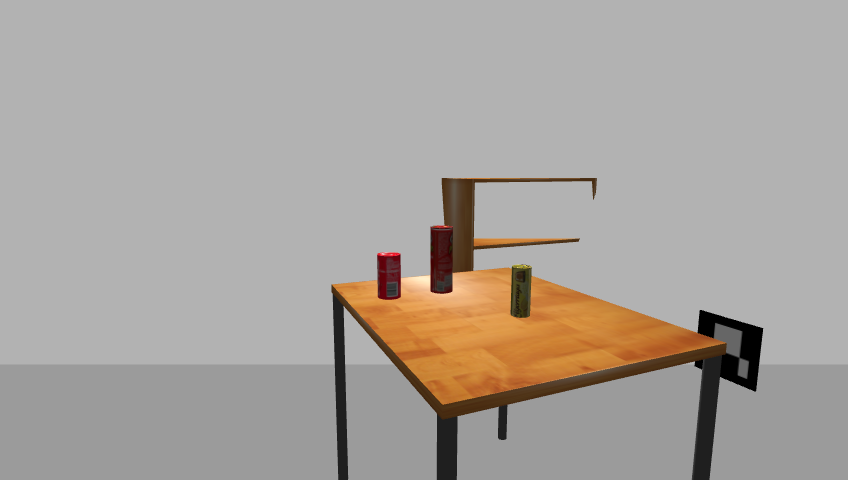aruco marker: (691, 308, 768, 393)
biscuits pack: (509, 264, 533, 319)
bookshelf: (437, 173, 603, 338)
coke can: (375, 251, 403, 300)
dinner table: (323, 268, 733, 480)
pringles can: (428, 225, 455, 295)
